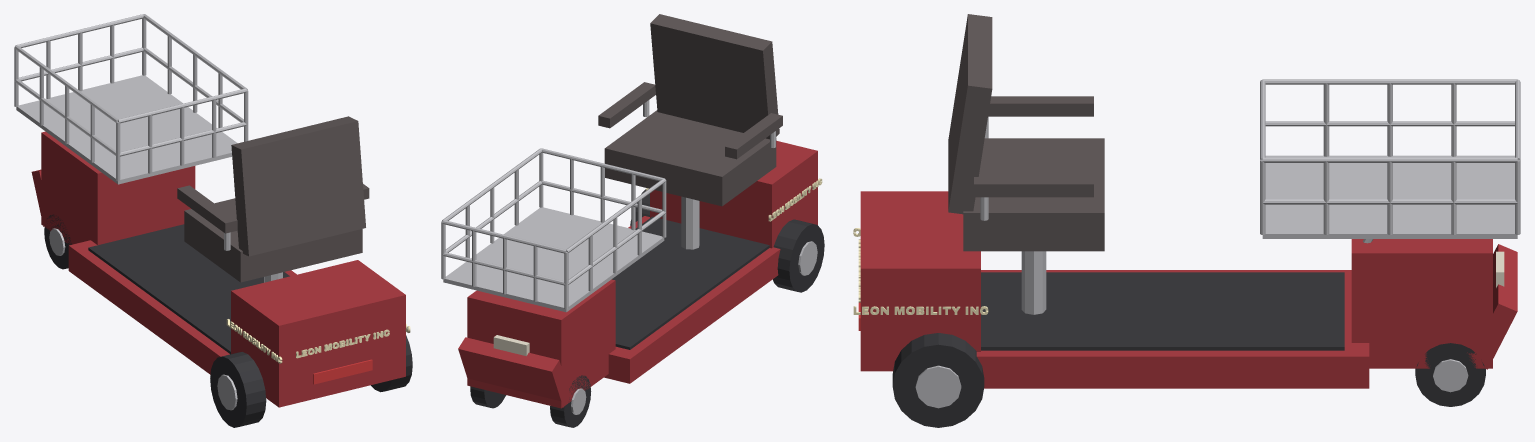
File: scooter.glb
3 renders of one model, left to right at view 1: azimuth 30°, elevation 25°; view 2: azimuth 150°, elevation 25°; view 3: azimuth 270°, elevation 25°, orthographic. The views are drawn at different scales.
Visible parts, largest first — view 1: Scooter; view 2: Scooter; view 3: Scooter.
Part boxes in pixels (x1,y1,x2,y2): Scooter: [14, 14, 412, 427]; Scooter: [441, 14, 824, 427]; Scooter: [853, 14, 1520, 427].
Size of the model in its own units: 0.696 by 1.02 by 1.89.
